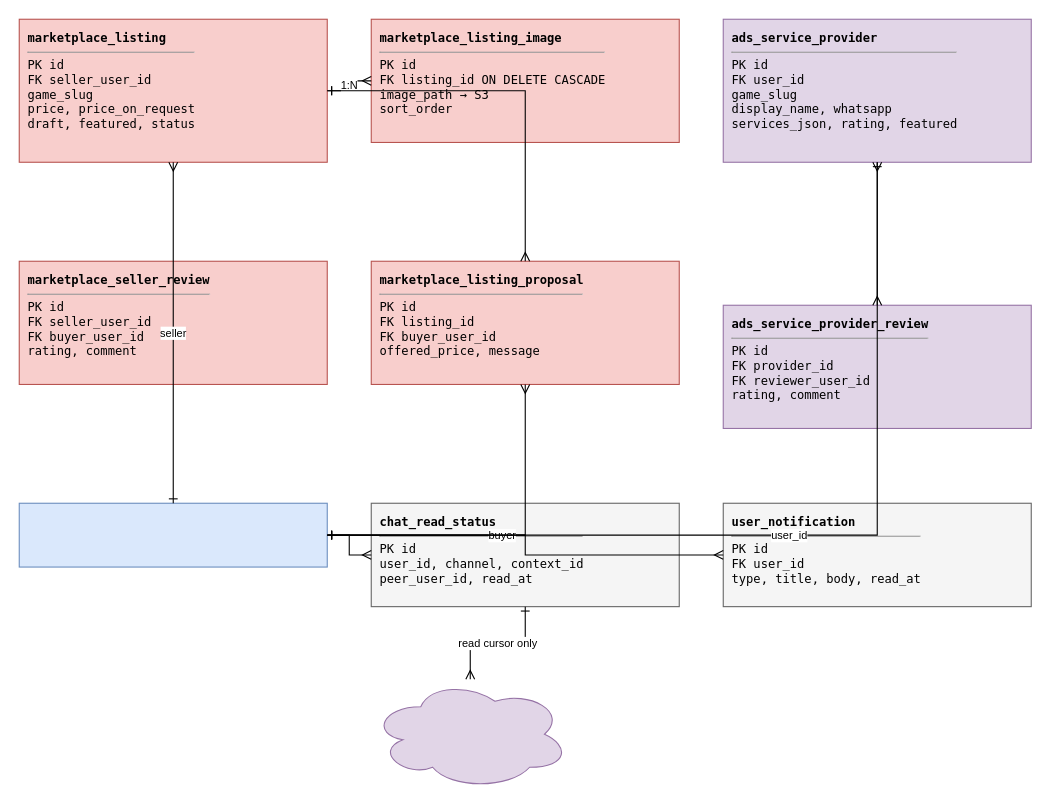
Image size: 1051x809. Some labels were removed from this diagram. Here are the shapes that lost their labels. From the top down, the centre of each, then its label:
At (172,534): "user_admin vendedor / comprador / reviewer".
At (469,733): "S3: chat transcripts (.txt diários + inbox JSON)".
